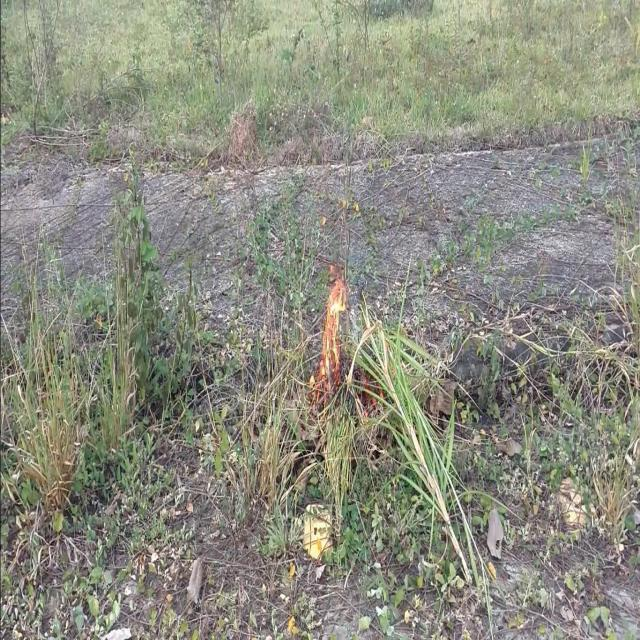Fire: (311, 262, 351, 400)
